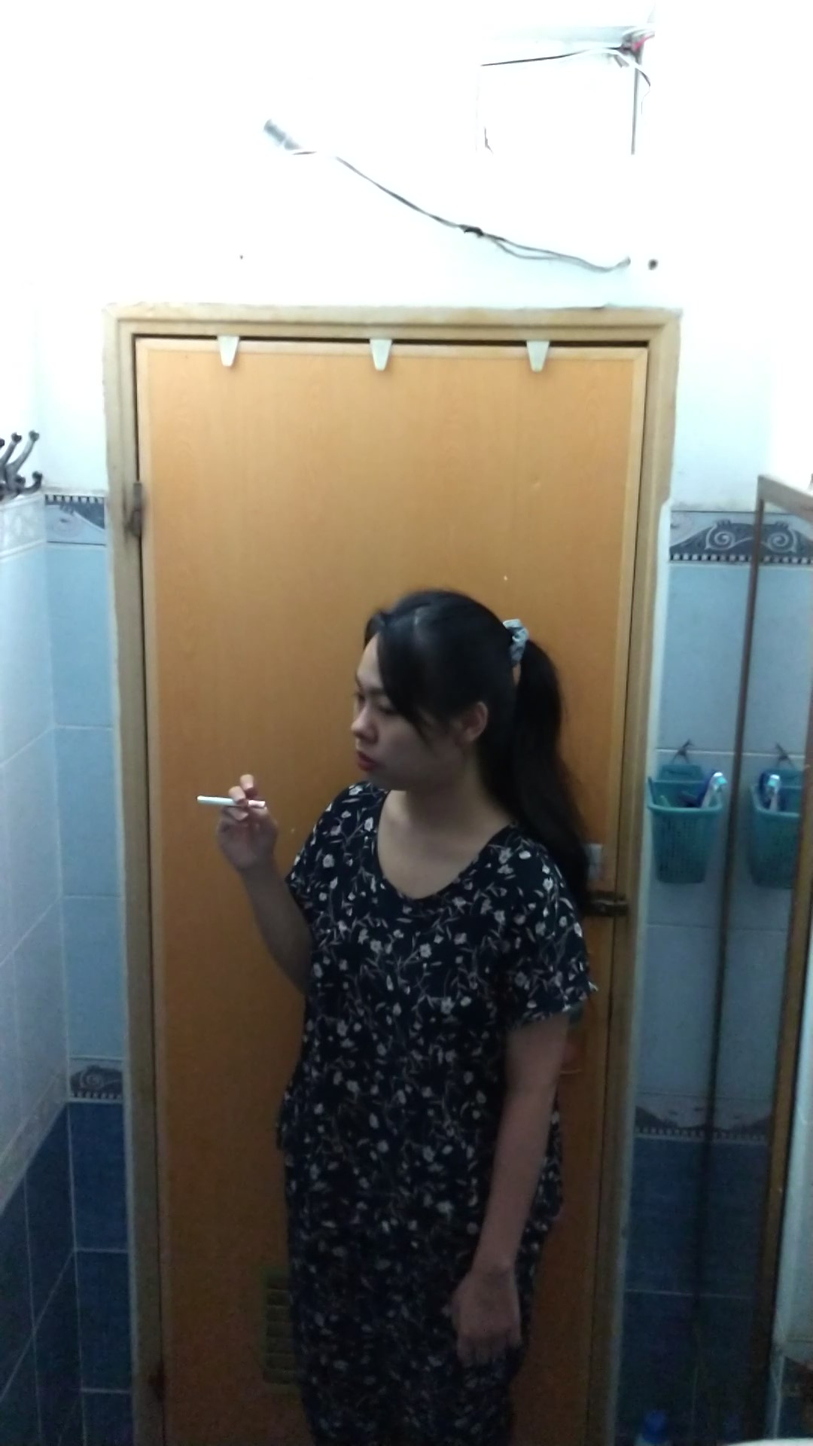cigarette: (193, 790, 236, 813)
person: (199, 579, 608, 1446)
